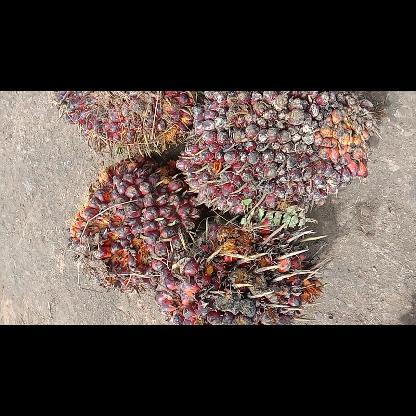Kurang masak: (173, 90, 378, 220), (49, 91, 203, 164)
TBS masak: (152, 212, 338, 324), (65, 150, 203, 296)
